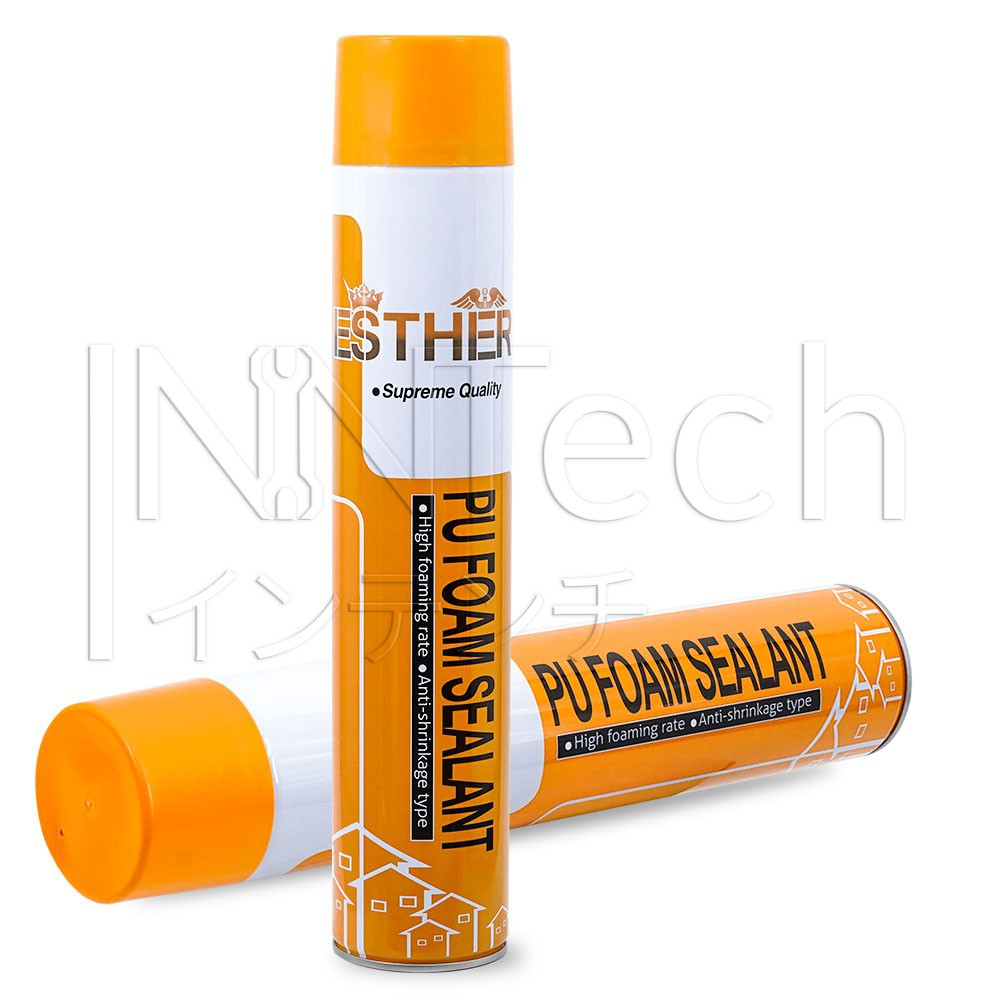Aerosol_cans: (33, 578, 912, 909), (329, 30, 509, 976)
